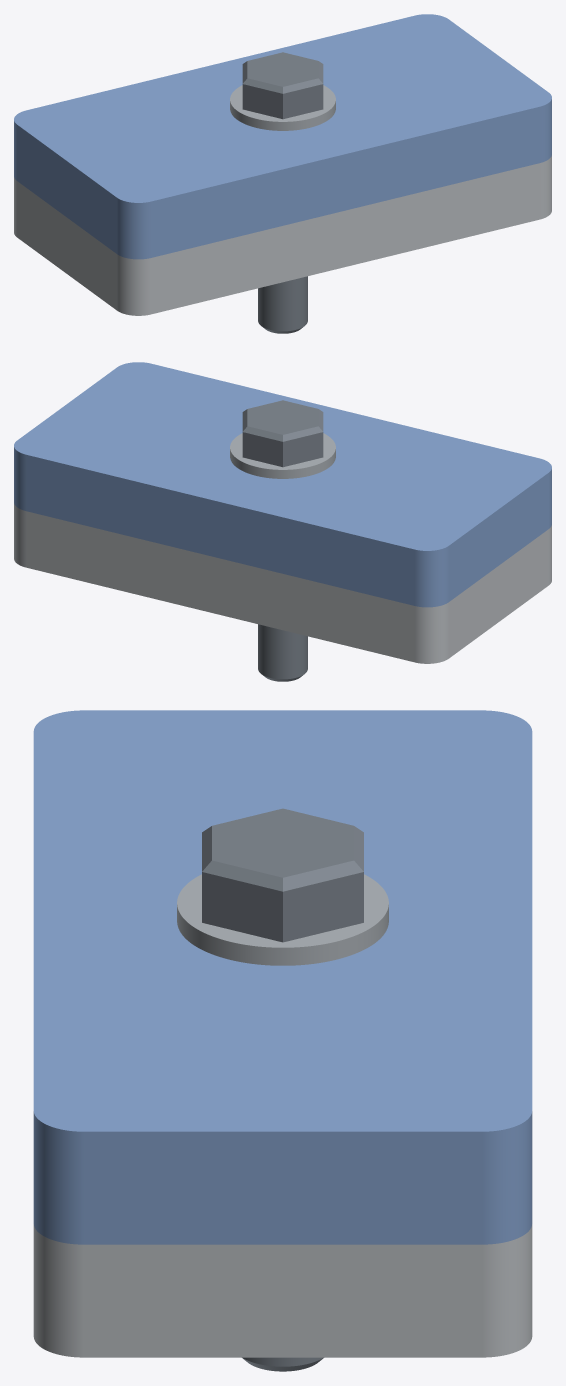
The model's file is bolted_joint.glb.
The picture shows the model from 3 angles, top to bottom: view 1: azimuth 30°, elevation 25°; view 2: azimuth 150°, elevation 25°; view 3: azimuth 270°, elevation 25°; orthographic projection. The views are drawn at different scales.
Visible parts, largest first — view 1: upper plate, lower plate, hex bolt M8 x 40, washer; view 2: upper plate, lower plate, hex bolt M8 x 40, washer; view 3: upper plate, lower plate, hex bolt M8 x 40, washer.
Boxes of the visible parts, x1,y1,x2,y2 form: upper plate: [14, 14, 551, 259]; lower plate: [14, 155, 551, 315]; hex bolt M8 x 40: [242, 52, 323, 333]; washer: [230, 85, 335, 130]; upper plate: [14, 362, 551, 607]; lower plate: [14, 503, 551, 663]; hex bolt M8 x 40: [242, 400, 323, 681]; washer: [230, 433, 335, 478]; upper plate: [33, 710, 532, 1244]; lower plate: [33, 1224, 532, 1357]; hex bolt M8 x 40: [202, 808, 363, 1371]; washer: [177, 874, 388, 965].
Bounding box in the file's own units: 80 × 45.3 × 40.
